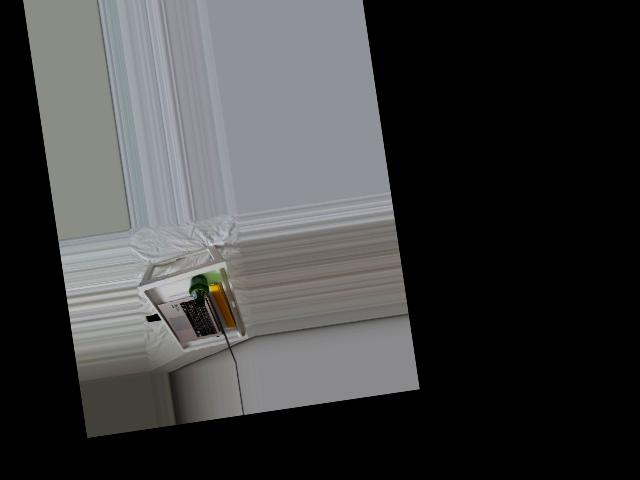beer: (187, 273, 211, 307)
